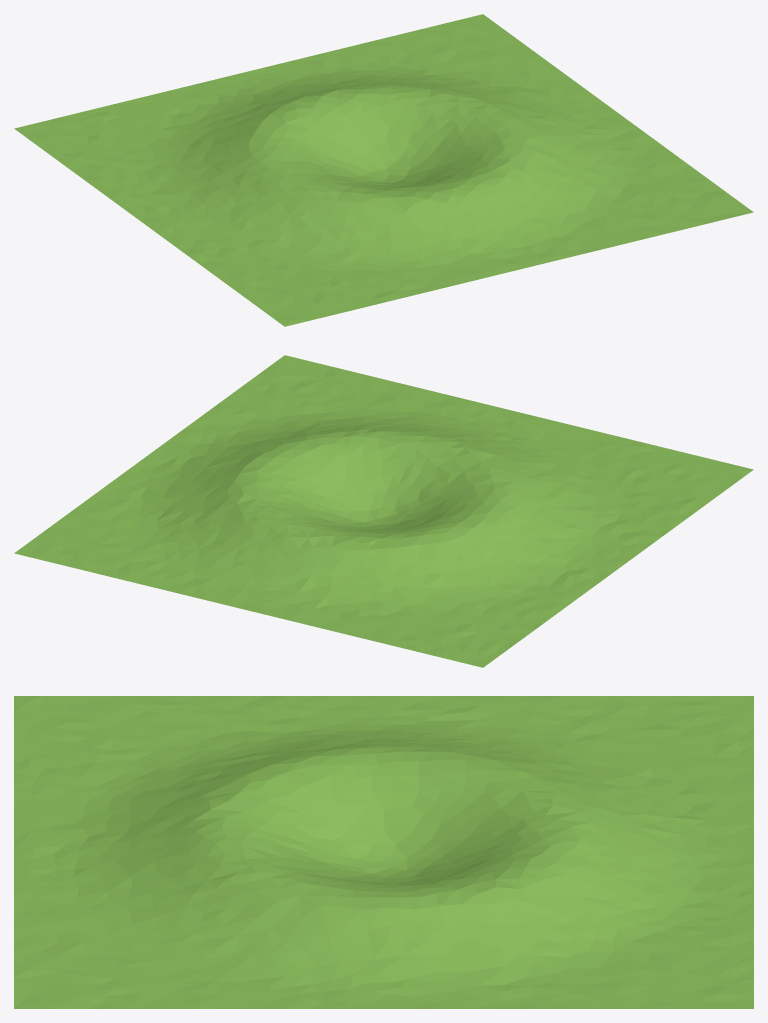
File: MT_Terrain_L_b_13.fbx
3 renders of one model, top to bottom at view 1: azimuth 30°, elevation 25°; view 2: azimuth 150°, elevation 25°; view 3: azimuth 270°, elevation 25°, orthographic. The views are drawn at different scales.
Visible parts, largest first — view 1: MT_Terrain_L_b_13; view 2: MT_Terrain_L_b_13; view 3: MT_Terrain_L_b_13.
Part boxes in pixels (x1,y1,x2,y2): MT_Terrain_L_b_13: (14,14,753,326); MT_Terrain_L_b_13: (14,355,753,667); MT_Terrain_L_b_13: (14,696,753,1008).
Size of the model in its own units: 10000 by 630 by 10000.
